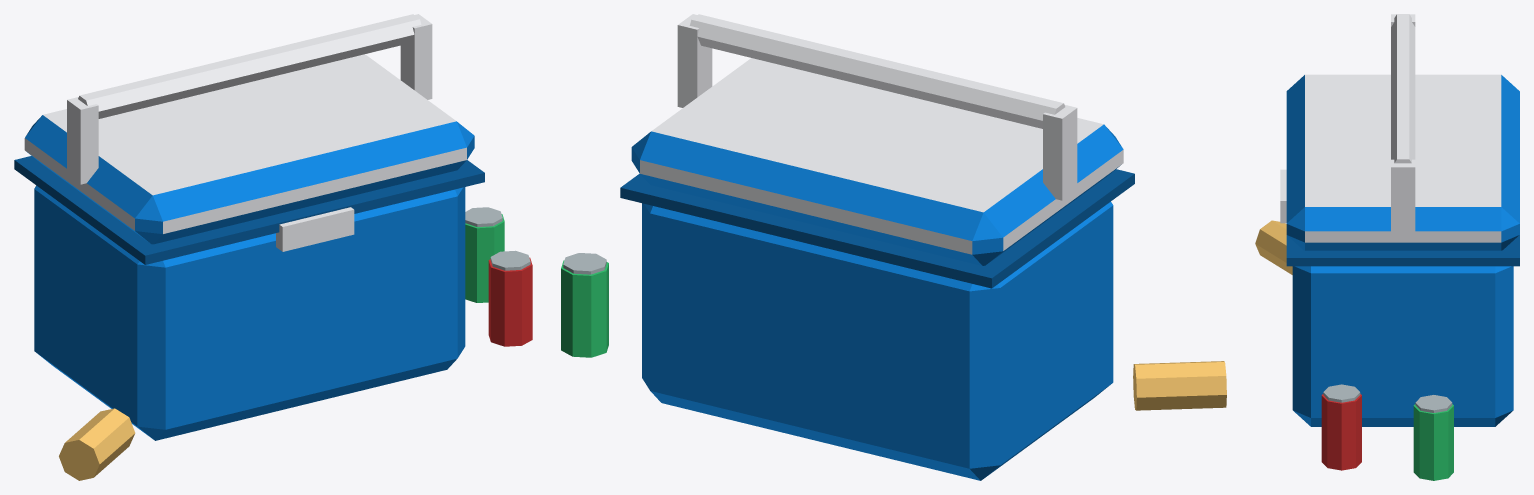
File: kuehlbox.glb
The picture shows the model from 3 angles, left to right: view 1: azimuth 30°, elevation 25°; view 2: azimuth 150°, elevation 25°; view 3: azimuth 270°, elevation 25°; orthographic projection. The views are drawn at different scales.
Parts seen in each view (by area): view 1: kuehlbox-m; view 2: kuehlbox-m; view 3: kuehlbox-m.
Part boxes in pixels (box(x1,y1,x2,y2)): kuehlbox-m: box(14, 14, 532, 480); kuehlbox-m: box(561, 14, 1226, 480); kuehlbox-m: box(1255, 14, 1519, 480).
Bounding box in the file's own units: 0.8812 × 0.4973 × 0.4311.
